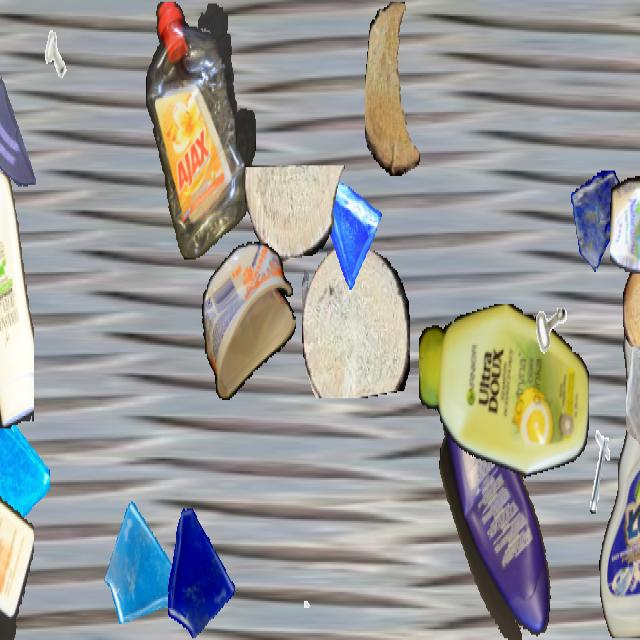glass: (104, 496, 184, 638), (159, 500, 237, 638), (312, 167, 382, 292), (0, 400, 50, 567), (571, 171, 627, 270), (0, 68, 40, 192), (626, 346, 640, 449)
metal: (515, 254, 575, 361), (575, 430, 631, 530), (37, 21, 75, 89), (279, 553, 317, 620)
plastic: (419, 304, 589, 482), (436, 386, 556, 638), (145, 2, 255, 258), (202, 242, 296, 402), (599, 301, 640, 638), (0, 172, 34, 428), (0, 439, 34, 638), (610, 164, 640, 278)
wood: (302, 242, 410, 398), (365, 2, 425, 176), (245, 166, 345, 262), (623, 260, 640, 366)
